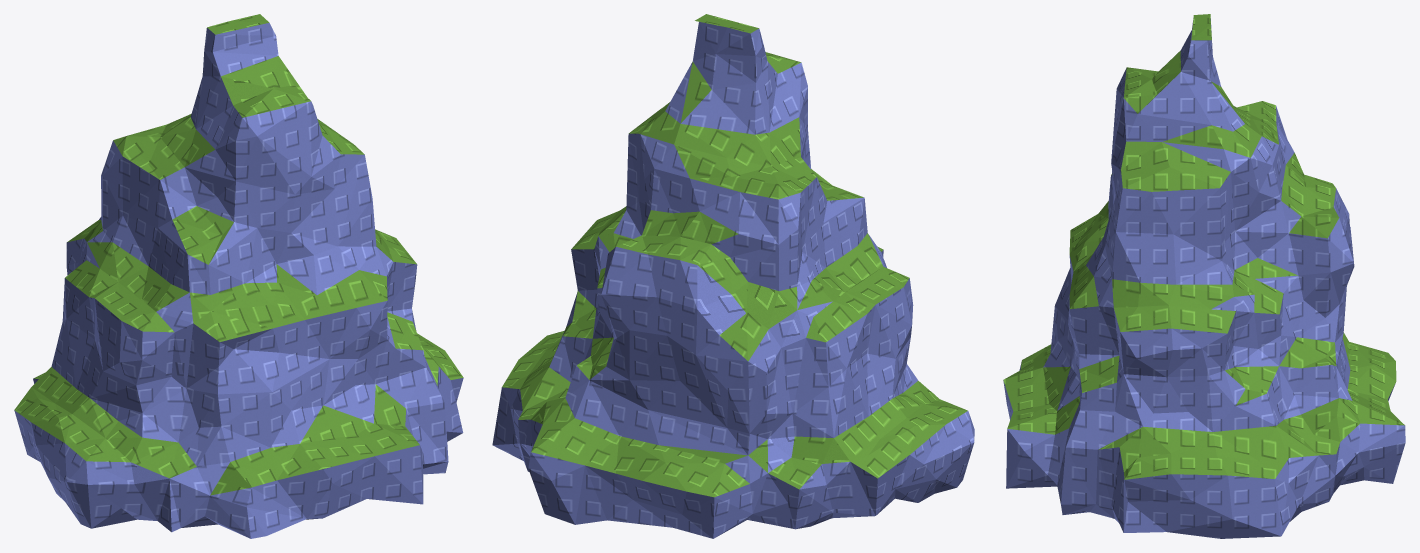
File: RockOutcrop.glb
The picture shows the model from 3 angles, left to right: view 1: azimuth 30°, elevation 25°; view 2: azimuth 150°, elevation 25°; view 3: azimuth 270°, elevation 25°; orthographic projection. The views are drawn at different scales.
Visible parts, largest first — view 1: RockOutcrop_Rock, RockOutcrop_Top; view 2: RockOutcrop_Rock, RockOutcrop_Top; view 3: RockOutcrop_Rock, RockOutcrop_Top.
Boxes of the visible parts, x1=… form: RockOutcrop_Rock: x1=14, y1=22, x2=463, y2=538; RockOutcrop_Top: x1=14, y1=14, x2=463, y2=495; RockOutcrop_Rock: x1=492, y1=22, x2=974, y2=538; RockOutcrop_Top: x1=502, y1=14, x2=967, y2=497; RockOutcrop_Rock: x1=1003, y1=18, x2=1405, y2=538; RockOutcrop_Top: x1=1003, y1=14, x2=1404, y2=479.
Bounding box in the file's own units: 16.79 × 17.7 × 14.87.
Materials: 2 (2 with a texture image).
